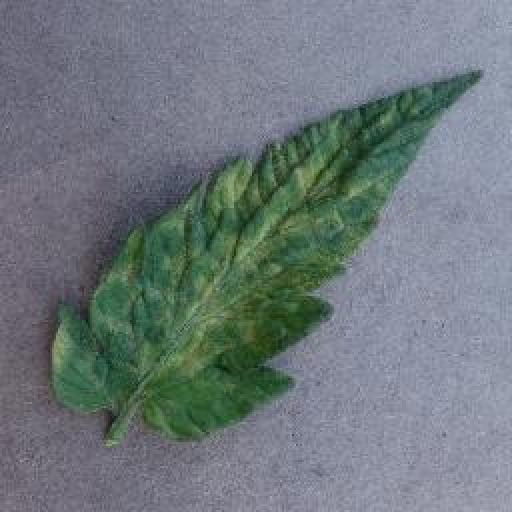disease_tomato: (49, 65, 484, 443)
